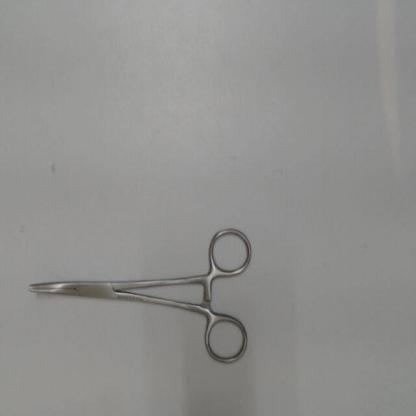Crile Artery Forceps: (21, 218, 258, 376)
